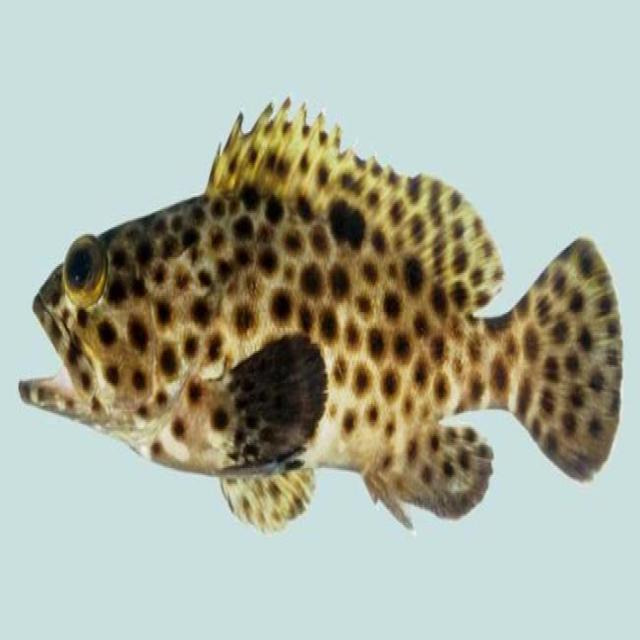ikan: (18, 92, 624, 537)
